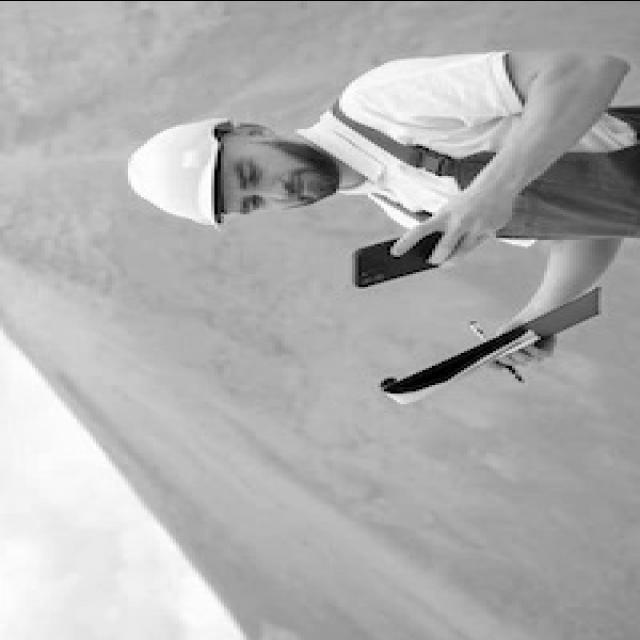construction helmet: (125, 113, 237, 228)
